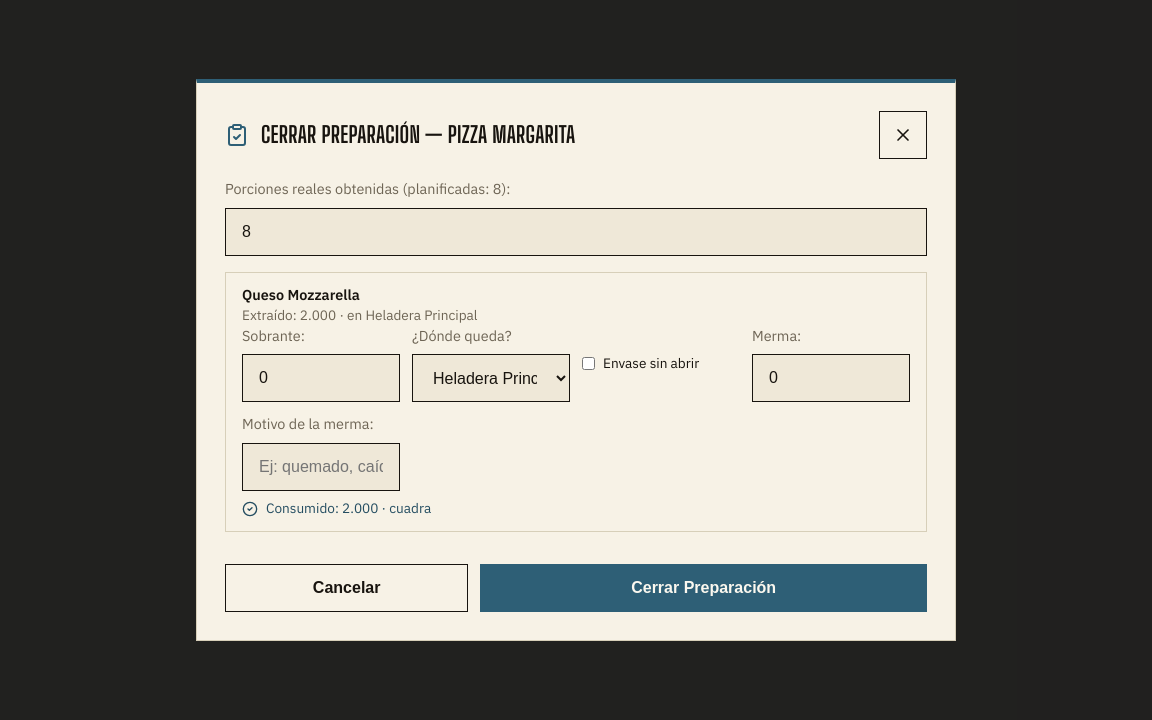
ClosePreparationModal (US-028 / TK-104-FE) › merma > 0 sin motivo bloquea el submit
Replace the text in the number field labelled "Merma:" with "0.2": coordinates (831, 378) [752,354,910,402]
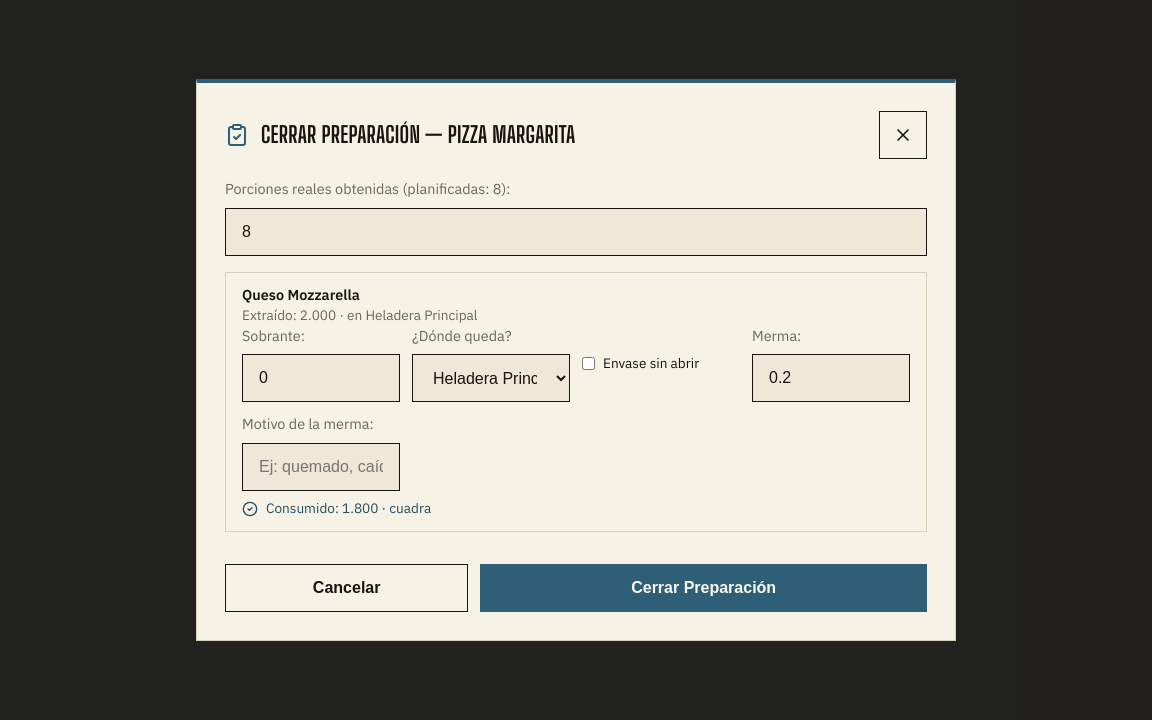
Click the button "Cerrar Preparación": coordinates (704, 588) [480,564,927,612]
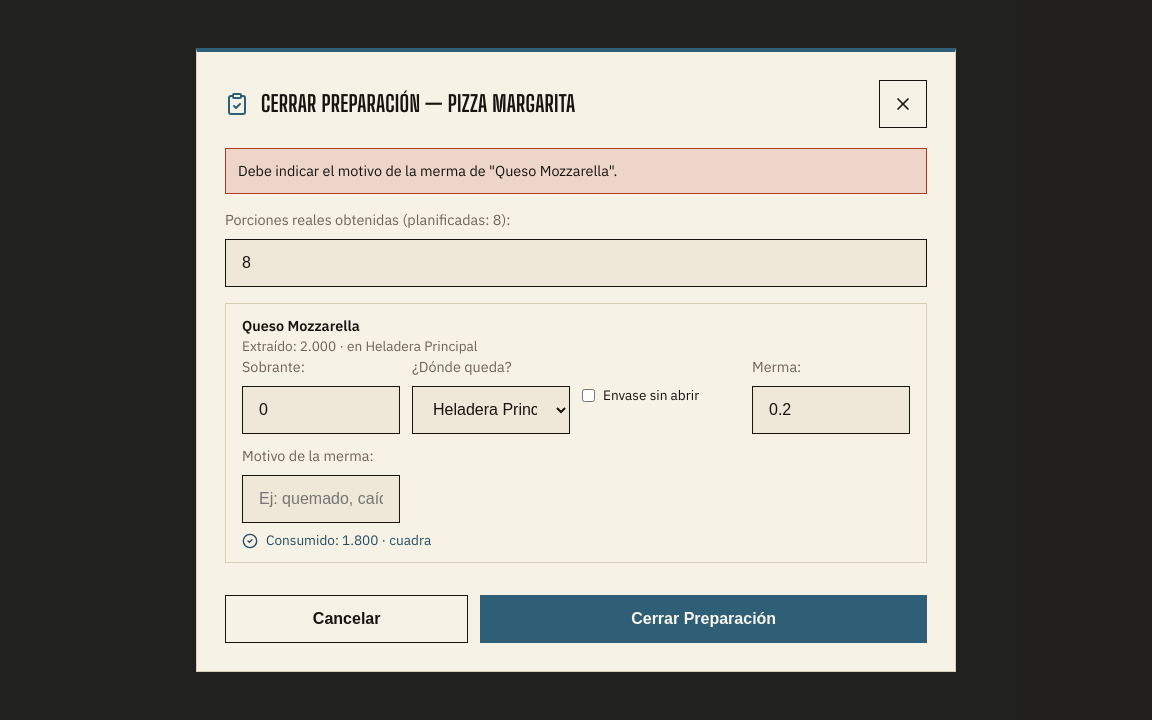
Expected: the message shows "motivo de la merma", [238,161,617,180]
